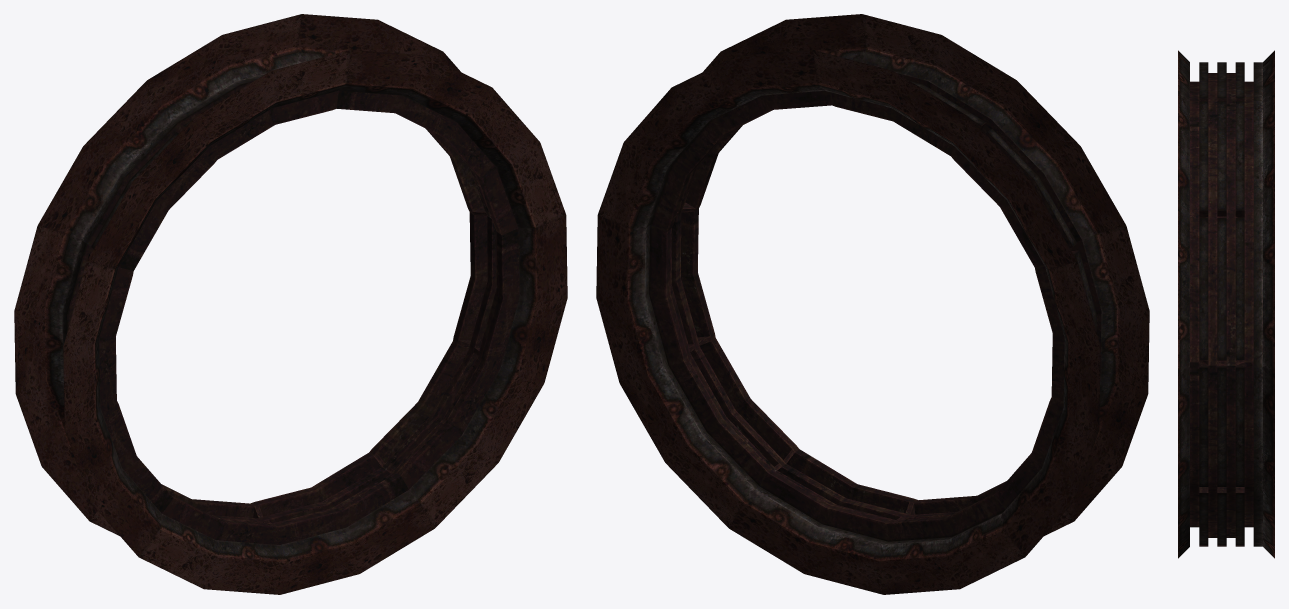
Rendered from barrier_ring01.dae.
3 renders of one model, left to right at view 1: azimuth 30°, elevation 25°; view 2: azimuth 150°, elevation 25°; view 3: azimuth 270°, elevation 25°, orthographic.
Parts seen in each view (by area): view 1: ring1; view 2: ring1; view 3: ring1.
Part boxes in pixels (x1=…): ring1: x1=14, y1=14, x2=567, y2=594; ring1: x1=596, y1=14, x2=1149, y2=594; ring1: x1=1178, y1=50, x2=1274, y2=558.
Size of the model in its own units: 5.94 by 5.94 by 1.
